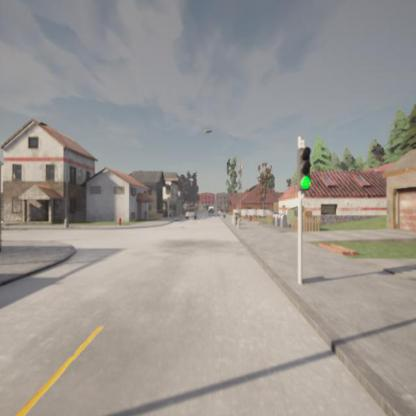traffic_light_green: (298, 147, 310, 191)
